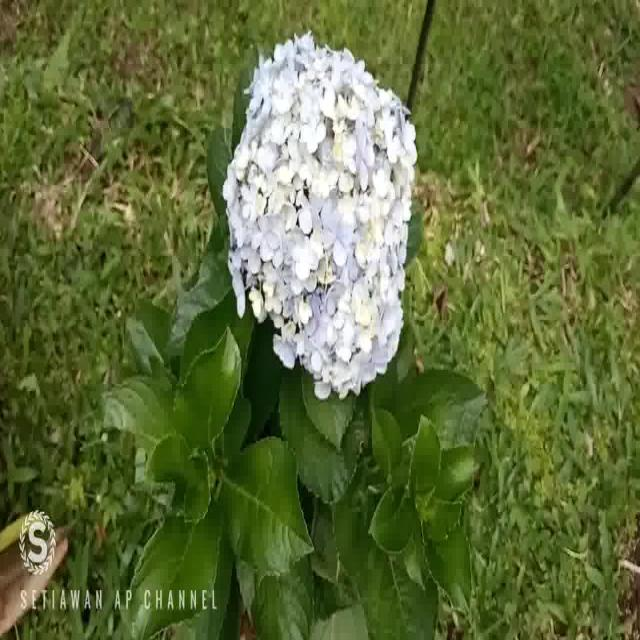Flower: (230, 29, 422, 416)
